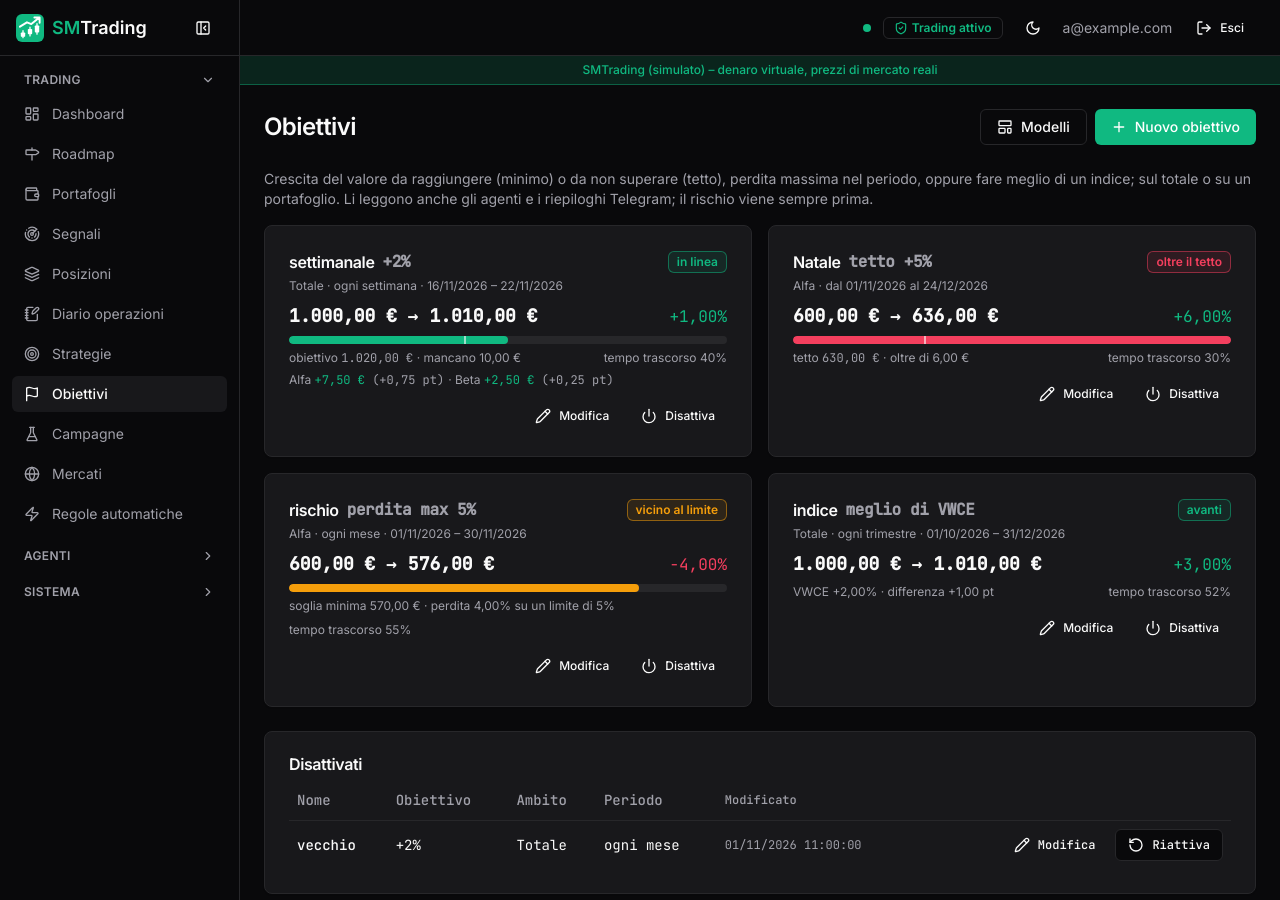
it: Obiettivi › «Modelli»: lists the templates, one prefills the dialog, the admin confirms
Click the button "Modelli": coordinates (1033, 127) [980,109,1087,145]
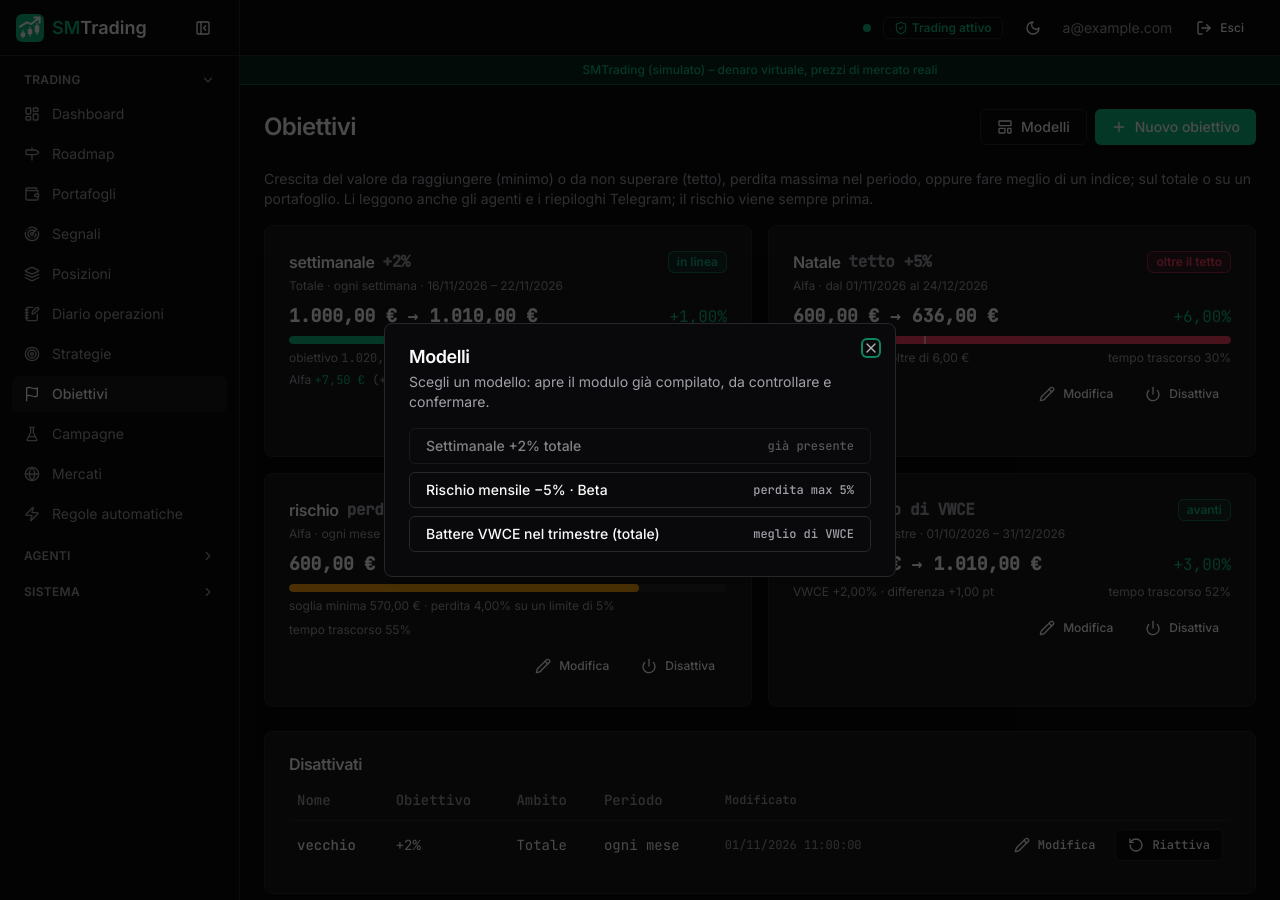
Expected: the button "Settimanale +2% totale già presente" is disabled, [409,428,871,464]
Expected: the text "già presente" is shown, [768,438,854,454]
Expected: the button "Rischio mensile −5% · Beta" is enabled
Click the button "Rischio mensile −5% · Beta": coordinates (517, 490) [409,472,871,508]
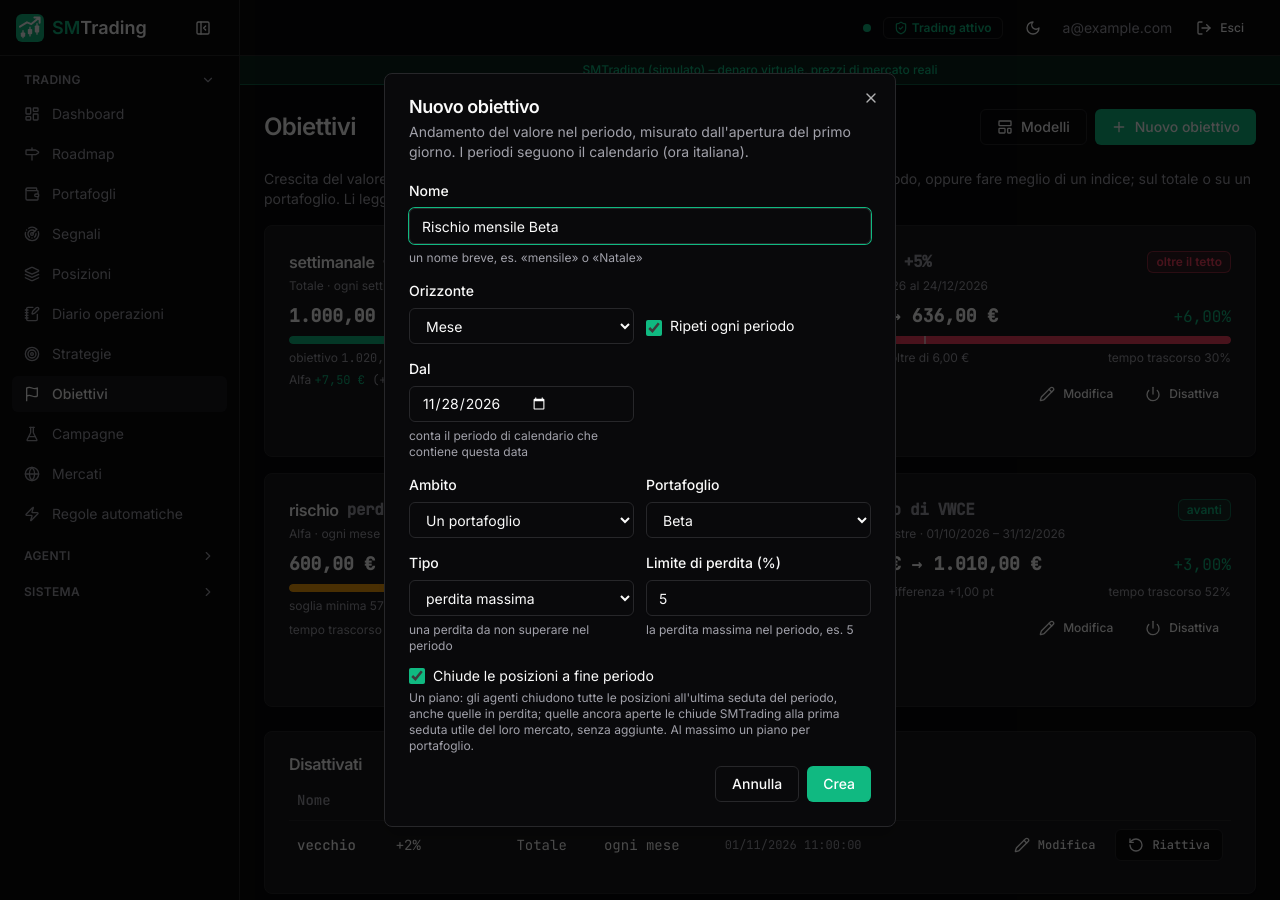
Expected: the field labelled "Nome" holds "Rischio mensile Beta", [409,208,871,244]
Expected: the dropdown labelled "Orizzonte" shows "Mese", [409,308,634,344]
Expected: the dropdown labelled "Tipo" shows "perdita massima", [409,580,634,616]
Click the button "Crea": coordinates (839, 784) [807,766,871,802]
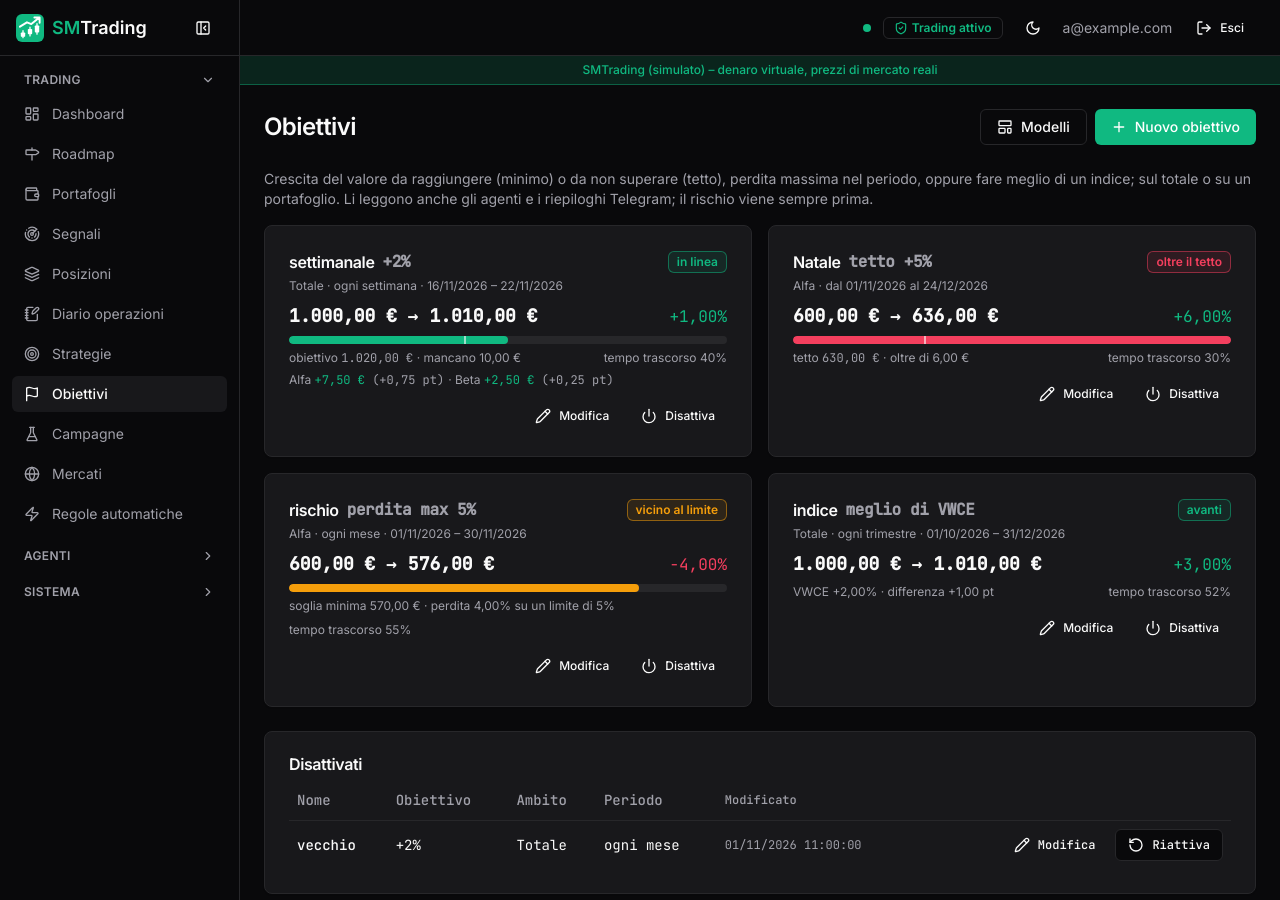
Click the button "Modelli": coordinates (1033, 127) [980,109,1087,145]
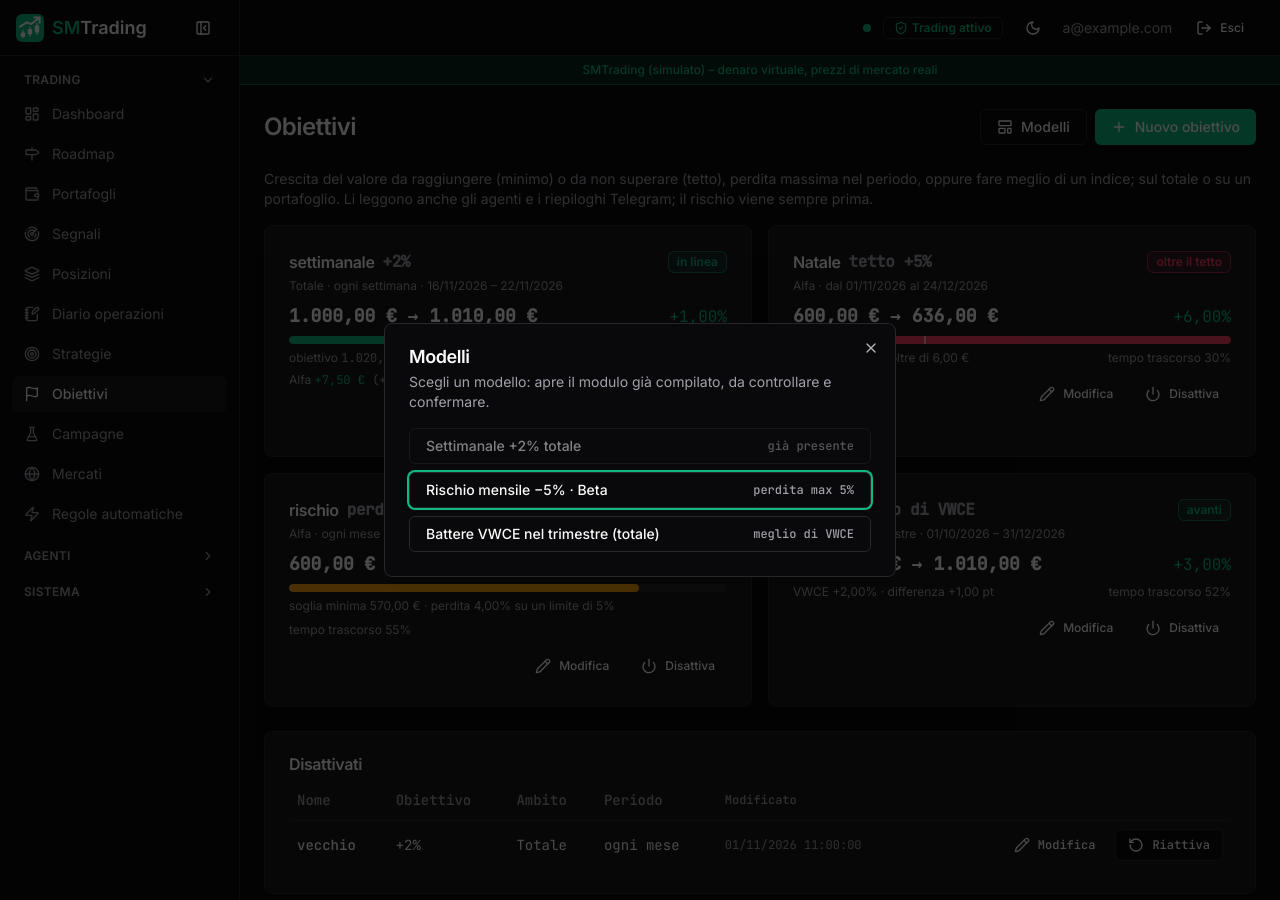
Click the button "Battere VWCE nel trimestre (totale)": coordinates (640, 534) [409,516,871,552]
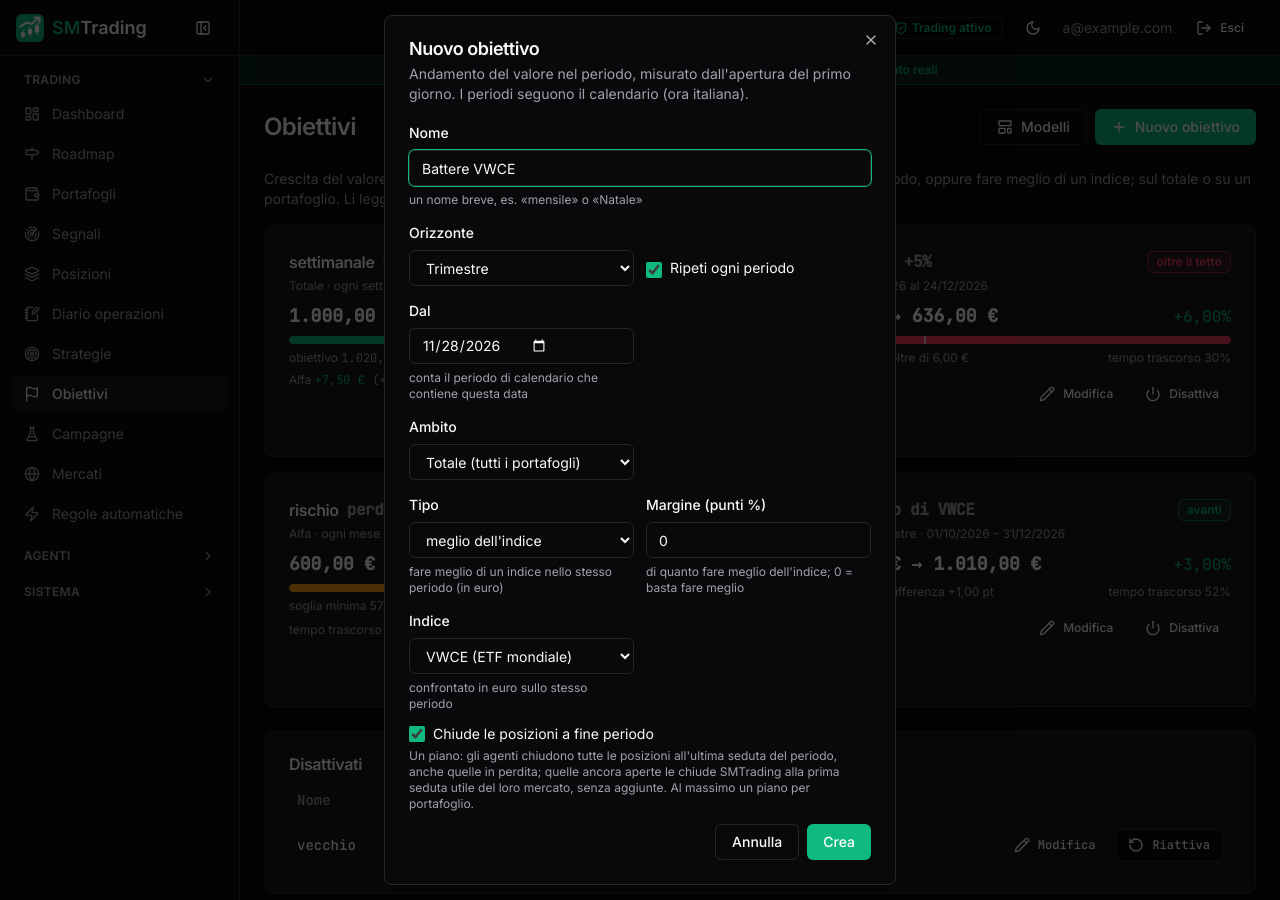
Expected: the dropdown labelled "Indice" shows "VWCE (ETF mondiale)", [409,638,634,674]
Expected: the field labelled "Margine (punti %)" holds "0", [646,522,871,558]
